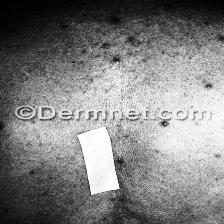Non-Cancerous Skin Condition: (56, 9, 224, 98)
